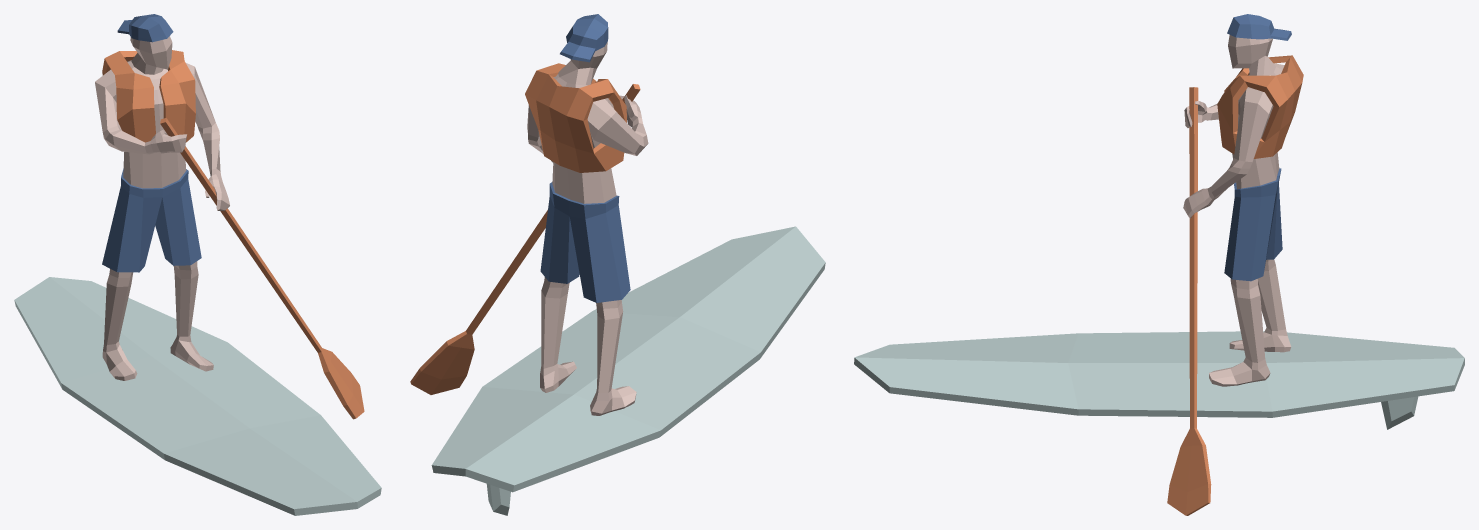
Rendered from PaddleBoard.glb.
3 views of the same model, side by side, from view 1: azimuth 30°, elevation 25°; view 2: azimuth 150°, elevation 25°; view 3: azimuth 270°, elevation 25° (orthographic). The views are drawn at different scales.
Parts seen in each view (by area): view 1: Model_padlesurf_Untitled.002; view 2: Model_padlesurf_Untitled.002; view 3: Model_padlesurf_Untitled.002.
Boxes of the visible parts, bbox=[...] form: Model_padlesurf_Untitled.002: bbox=[14, 14, 381, 515]; Model_padlesurf_Untitled.002: bbox=[410, 14, 825, 515]; Model_padlesurf_Untitled.002: bbox=[854, 14, 1464, 515].
Bounding box in the file's own units: 0.8295 × 1.24 × 1.66.
